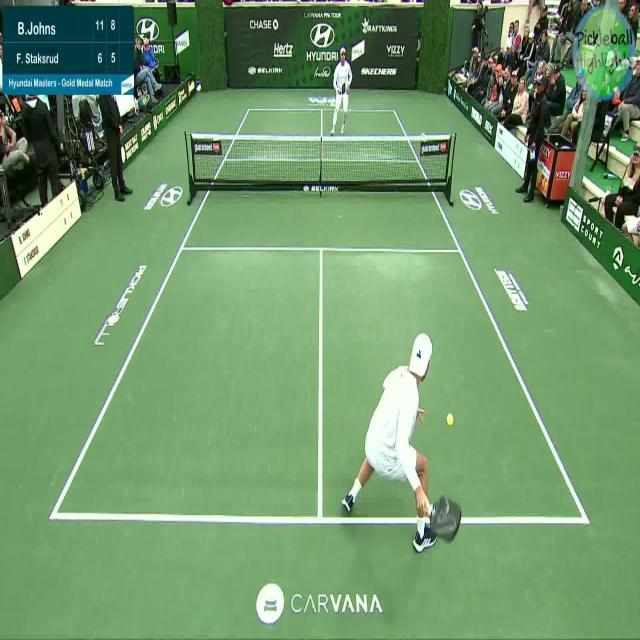ball: (442, 406, 457, 433)
